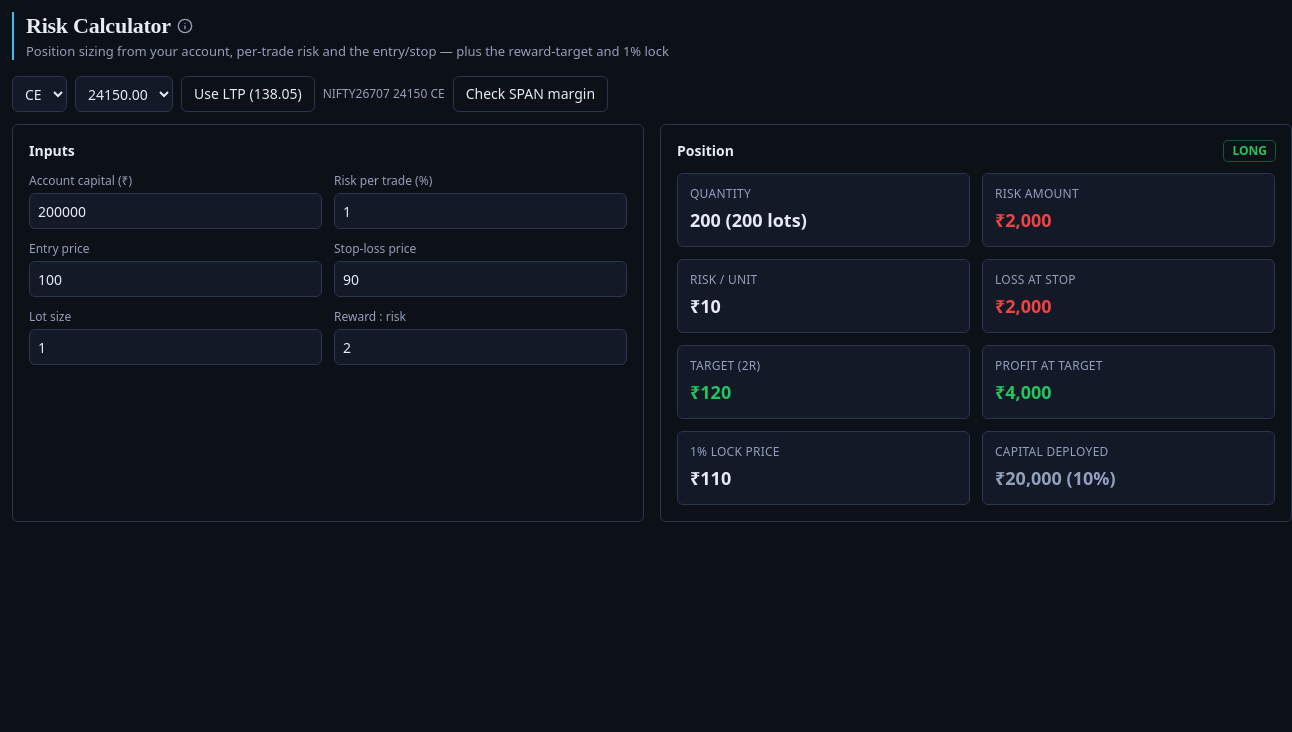
Test: RiskCalculatorPage option picker › fills the entry with the picked leg LTP
Click the button "Use LTP (138.05)" at (248, 94), box [181,76,315,112]
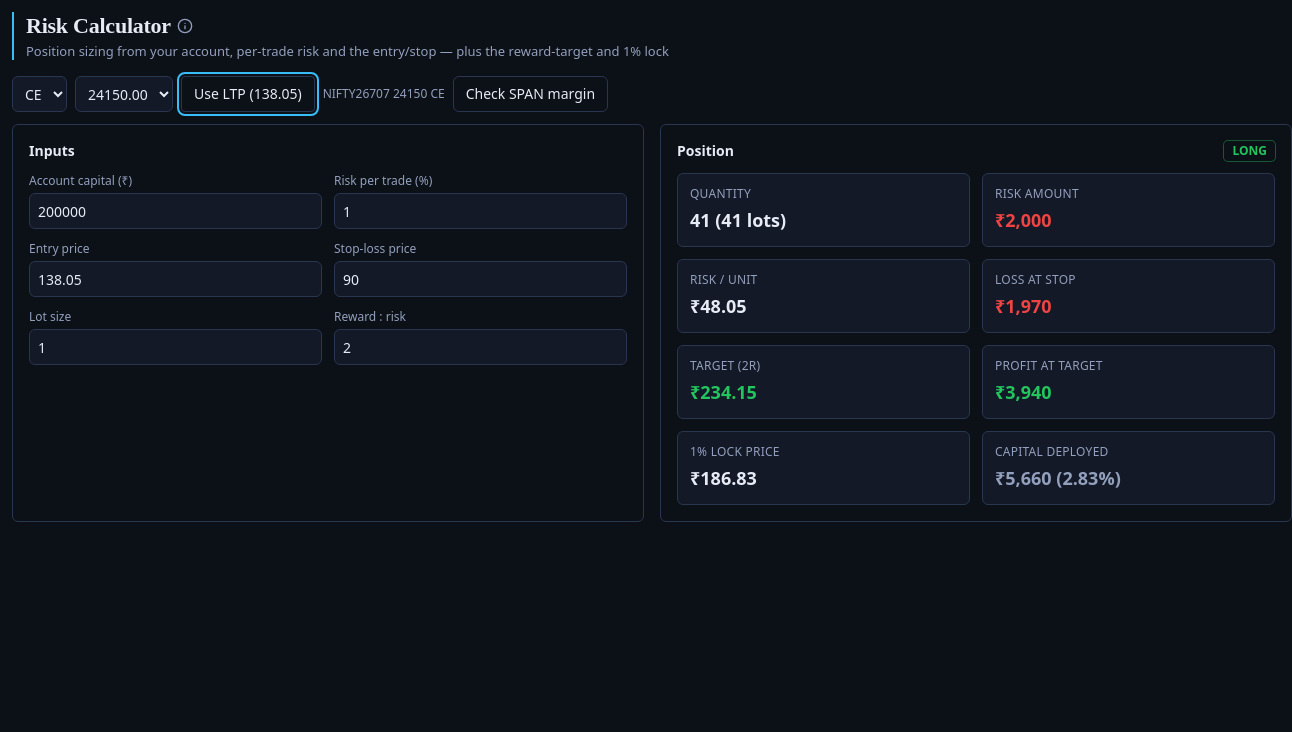
Now the number field labelled "Entry price" holds "138.05", box [29,261,322,297]
